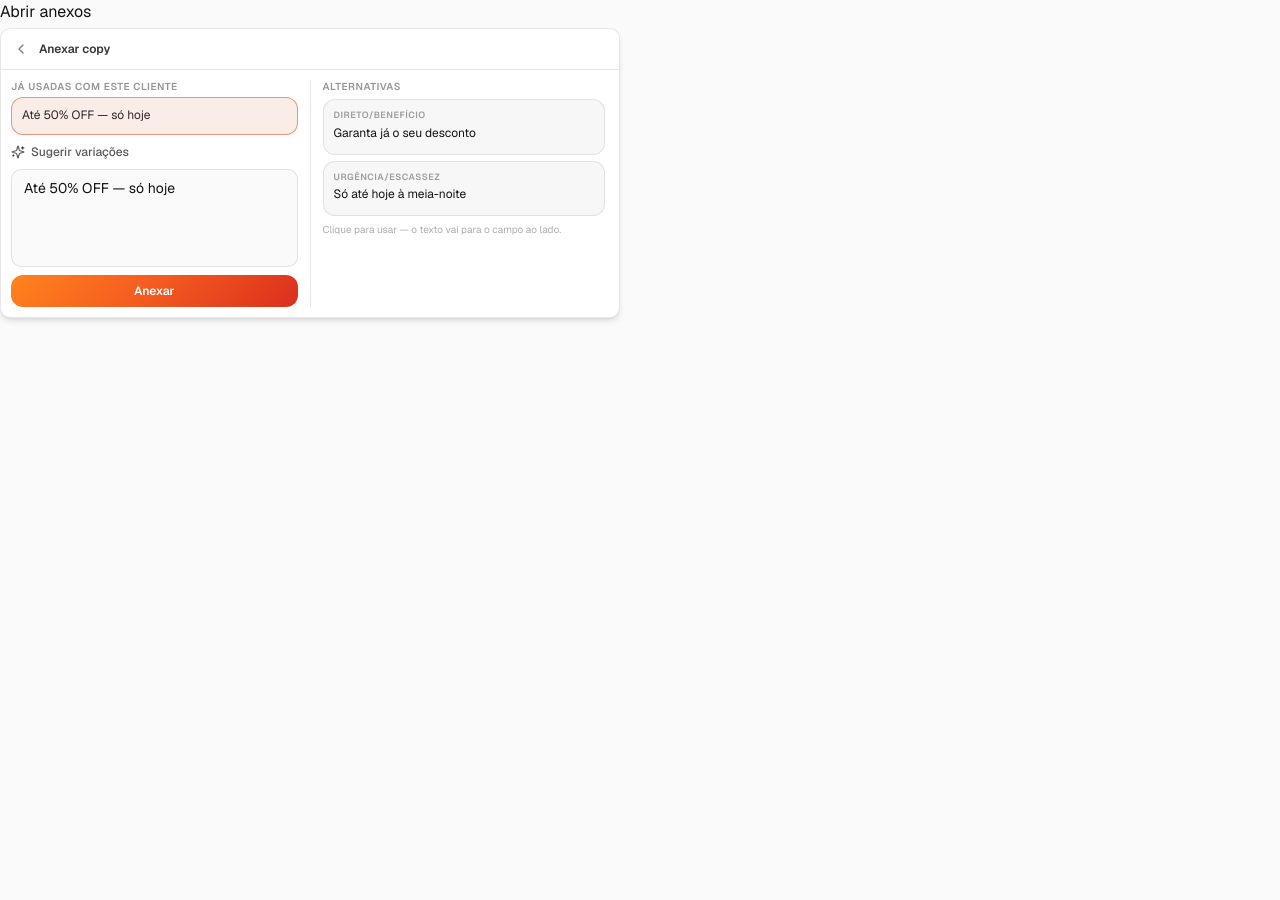
AttachMenu › copy: sugerir variações mostra 4 cartões, clicar num deles preenche o texto
The image size is (1280, 900).
Earlier steps of the test are not shown.
Step 1. Click the text "Garanta já o seu desconto" → (405, 133), box [334,125,476,141]
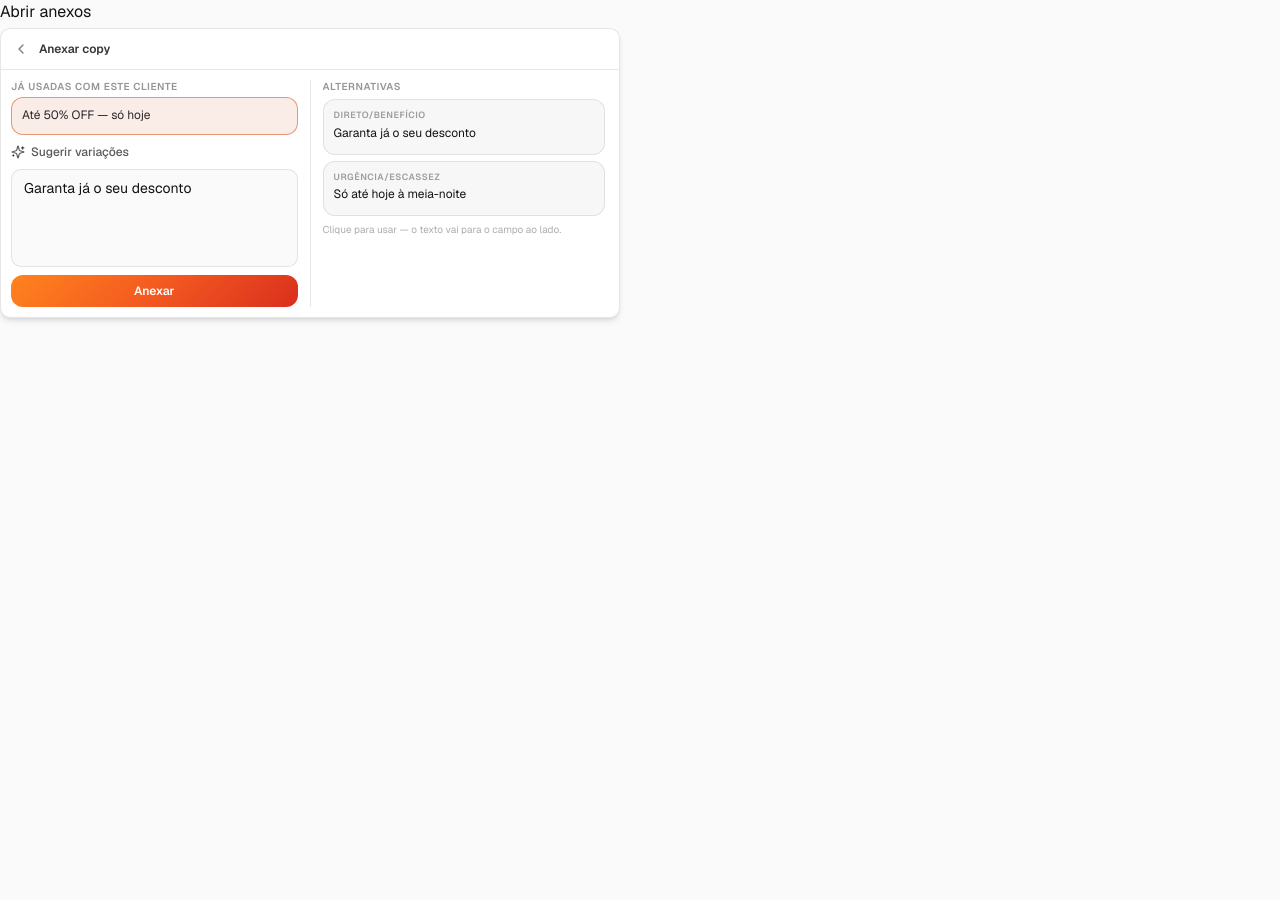
Check: the text box with placeholder "Cole o texto final — título, subtítulo, CTA…" holds "Garanta já o seu desconto", box [11,169,298,267]
